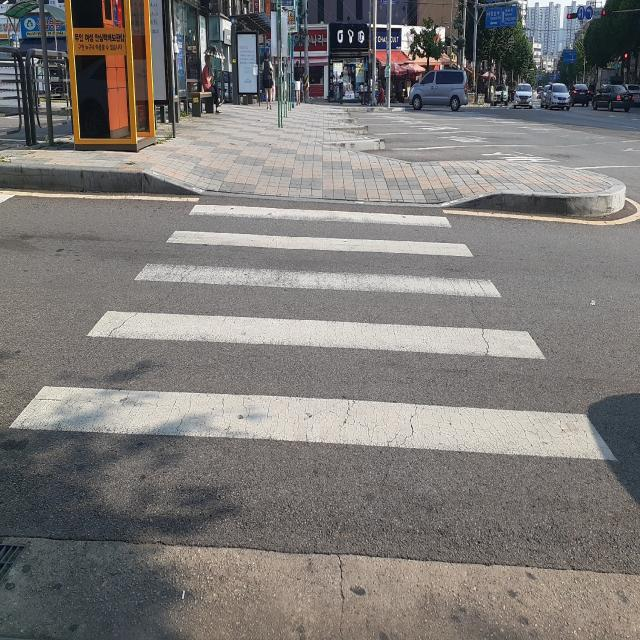횡단보도: (7, 200, 620, 466)
